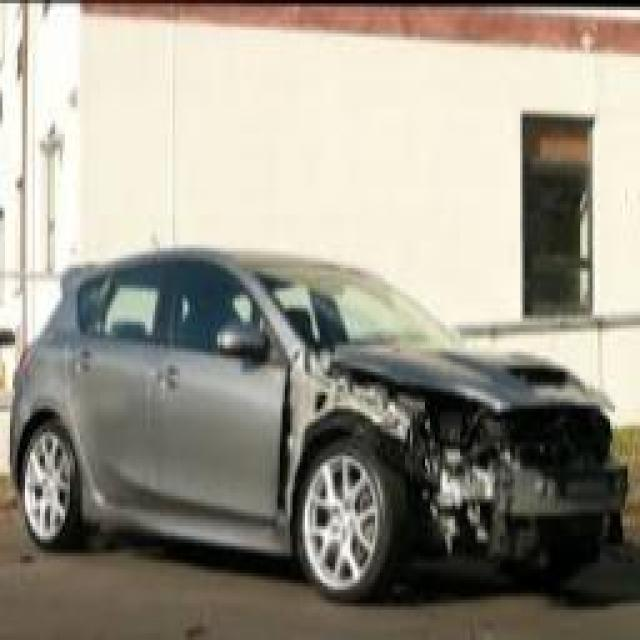Bonnet: (304, 334, 612, 428)
Bumper: (406, 439, 630, 584)
Fender: (275, 367, 420, 554)
